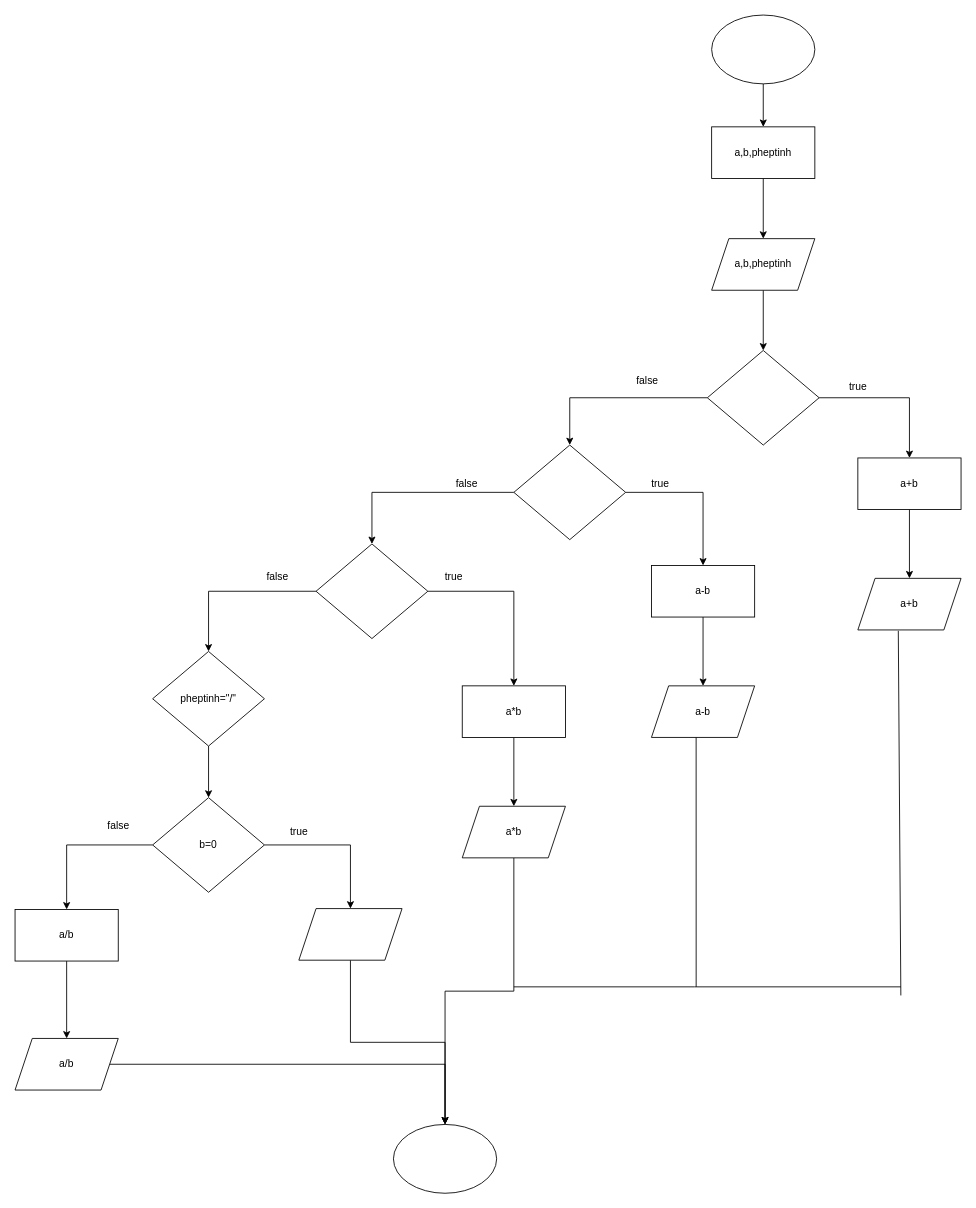
This 976x1208 diagram has some shape labels left out. The shapes that lost their labels are listed below. From the top down, each one's centre as x and y in pixels, then its label:
the point at 763,49: START
the point at 762,397: pheptinh="+"
the point at 569,492: pheptinh="-"
the point at 371,591: pheptinh=''*'
the point at 350,934: Không thể thực hiện
the point at 445,1158: END
